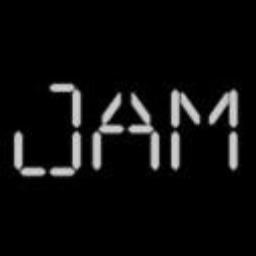a: (89, 86, 163, 176)
m: (168, 88, 244, 174)
